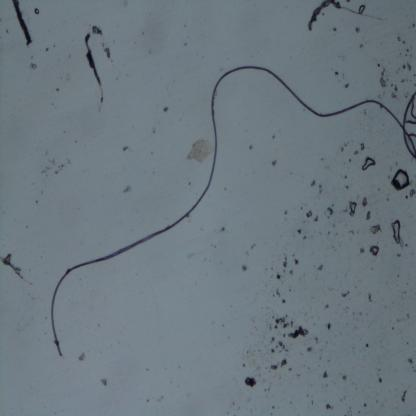Air bubble: (390, 167, 410, 193), (390, 220, 404, 248), (362, 154, 376, 172), (349, 201, 358, 215), (357, 4, 366, 14), (33, 6, 40, 17)
Background material: (84, 26, 118, 115), (267, 308, 307, 372), (37, 155, 80, 178), (184, 136, 215, 160), (286, 323, 309, 338), (273, 312, 290, 330), (242, 373, 258, 391), (305, 209, 320, 224), (380, 66, 390, 88), (277, 340, 290, 354), (326, 203, 335, 221), (369, 222, 381, 235), (399, 390, 410, 403), (26, 60, 37, 72), (78, 350, 89, 362), (369, 244, 380, 256), (390, 86, 400, 99), (400, 62, 414, 71), (341, 289, 352, 300), (122, 184, 132, 196), (121, 144, 132, 154), (406, 356, 416, 367), (99, 376, 108, 388), (282, 253, 288, 270), (280, 358, 289, 369), (368, 290, 375, 304), (361, 195, 368, 208), (318, 183, 324, 198), (326, 403, 336, 412), (409, 186, 416, 198), (354, 25, 364, 33), (321, 369, 329, 379), (359, 141, 366, 152), (365, 211, 372, 222), (325, 320, 332, 331), (310, 176, 316, 188), (246, 142, 254, 151), (271, 158, 278, 168), (342, 82, 350, 90), (270, 363, 278, 371), (263, 384, 271, 392), (275, 272, 282, 281), (344, 409, 353, 416), (219, 224, 225, 234), (340, 373, 347, 381), (398, 37, 406, 44), (283, 206, 288, 216), (162, 106, 169, 113), (241, 265, 248, 272), (340, 208, 348, 214), (395, 318, 403, 324), (324, 303, 330, 311), (307, 345, 313, 353), (158, 393, 164, 401), (298, 227, 304, 235), (281, 298, 287, 306), (377, 375, 383, 383), (317, 264, 323, 272), (276, 289, 281, 298), (268, 347, 275, 353), (353, 150, 360, 156), (256, 364, 262, 371), (294, 258, 299, 266), (314, 335, 318, 344), (405, 47, 411, 53), (403, 194, 409, 200), (289, 268, 295, 274), (358, 247, 364, 253), (359, 42, 364, 49), (334, 70, 338, 78), (343, 174, 348, 180), (330, 26, 336, 31), (410, 22, 415, 28), (295, 373, 301, 378), (271, 134, 276, 140), (251, 243, 256, 249), (349, 230, 354, 236), (406, 312, 410, 319), (400, 78, 405, 83), (344, 142, 349, 147), (357, 311, 362, 316), (271, 405, 276, 410), (404, 52, 408, 58), (340, 146, 344, 152), (34, 199, 38, 205), (388, 174, 392, 180), (289, 367, 293, 373), (265, 265, 268, 272), (291, 320, 294, 327), (237, 405, 241, 410), (332, 223, 336, 228), (396, 253, 400, 258), (404, 242, 408, 247), (242, 363, 246, 368), (182, 42, 186, 47), (348, 157, 352, 162), (376, 63, 381, 67), (288, 287, 292, 292), (365, 342, 369, 347), (56, 86, 59, 92), (341, 72, 344, 78), (345, 185, 349, 189), (271, 338, 275, 342), (332, 248, 336, 252), (246, 251, 249, 256), (303, 235, 306, 240), (327, 230, 330, 235), (232, 402, 235, 406), (301, 206, 304, 210), (248, 398, 251, 402), (406, 341, 409, 345), (397, 274, 400, 278), (271, 266, 274, 270), (273, 293, 275, 298), (365, 402, 367, 407), (311, 400, 313, 405), (391, 327, 394, 330), (246, 351, 249, 354), (386, 199, 389, 202), (265, 394, 268, 397), (404, 290, 406, 294), (46, 48, 48, 52), (271, 412, 273, 416), (322, 158, 324, 161), (332, 247, 334, 249)
Cellulose filter fibre: (306, 1, 389, 34), (0, 250, 34, 287), (12, 0, 34, 50)
Microfibre: (50, 63, 415, 358), (401, 88, 416, 163)
